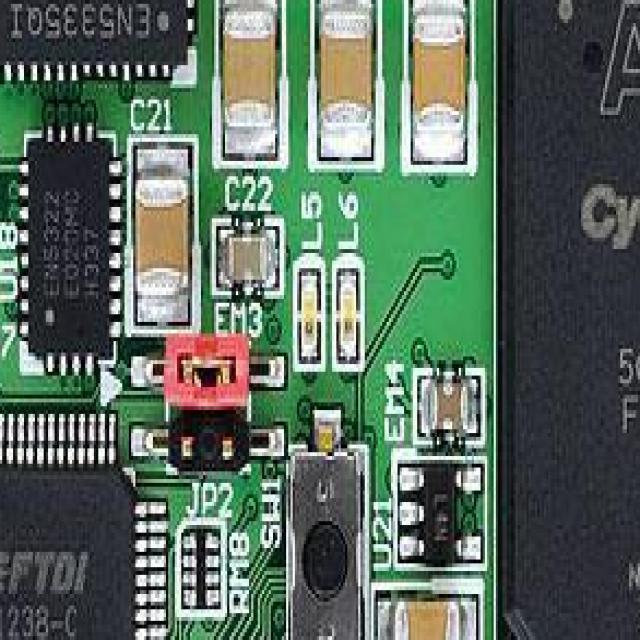EM: (410, 364, 482, 437), (212, 218, 279, 288)
IC: (489, 0, 640, 640), (22, 130, 113, 357), (0, 0, 188, 65), (393, 452, 483, 564)
LED: (332, 257, 360, 364), (290, 257, 316, 372)
button: (284, 398, 362, 640)
capacitor: (127, 130, 194, 326), (404, 0, 470, 165), (310, 0, 376, 161), (216, 0, 280, 161), (369, 582, 476, 640)
connector: (124, 402, 288, 476)
electrolytic capacitor: (0, 406, 168, 640)
jumper: (131, 326, 286, 402)
resistor: (177, 518, 221, 610)
